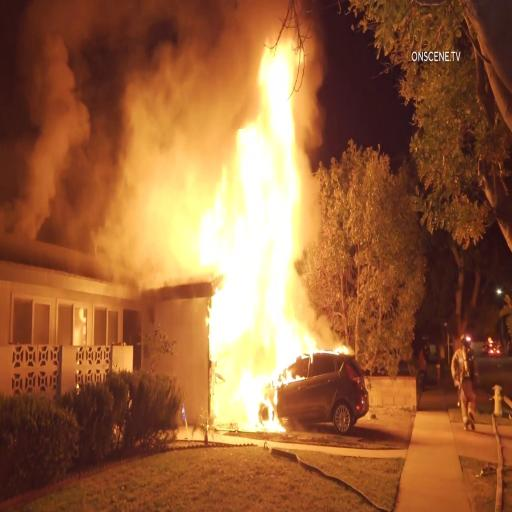fire: (236, 46, 311, 346), (172, 165, 310, 276), (220, 282, 282, 430), (303, 314, 362, 357)
smoke: (1, 2, 169, 240), (0, 0, 233, 158), (0, 0, 233, 91)
